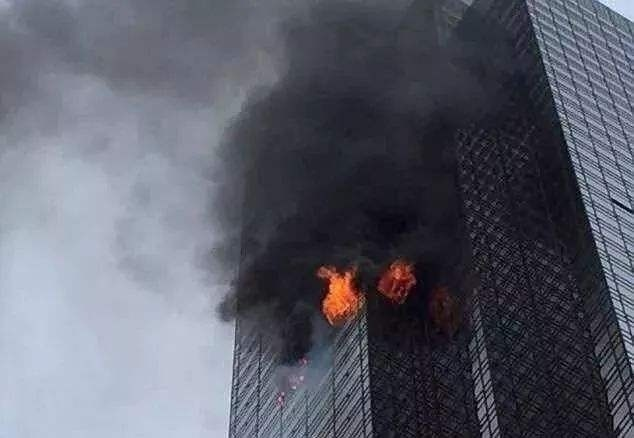fire: (316, 263, 360, 321), (379, 257, 416, 304)
